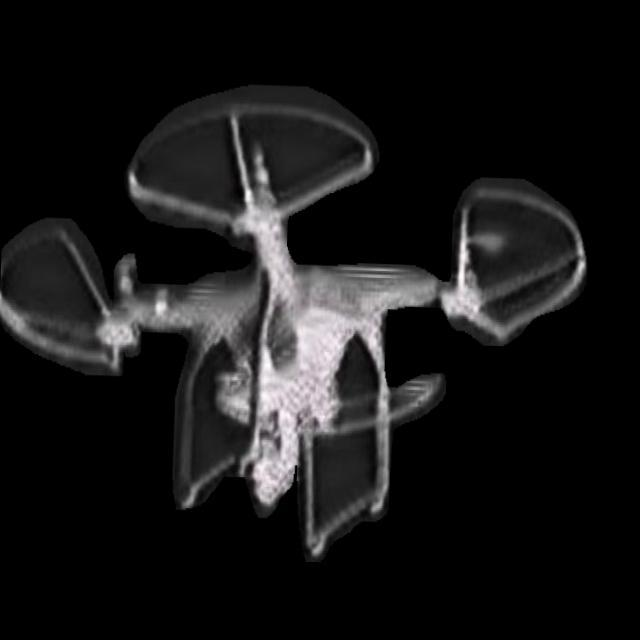drone: (0, 68, 597, 562)
